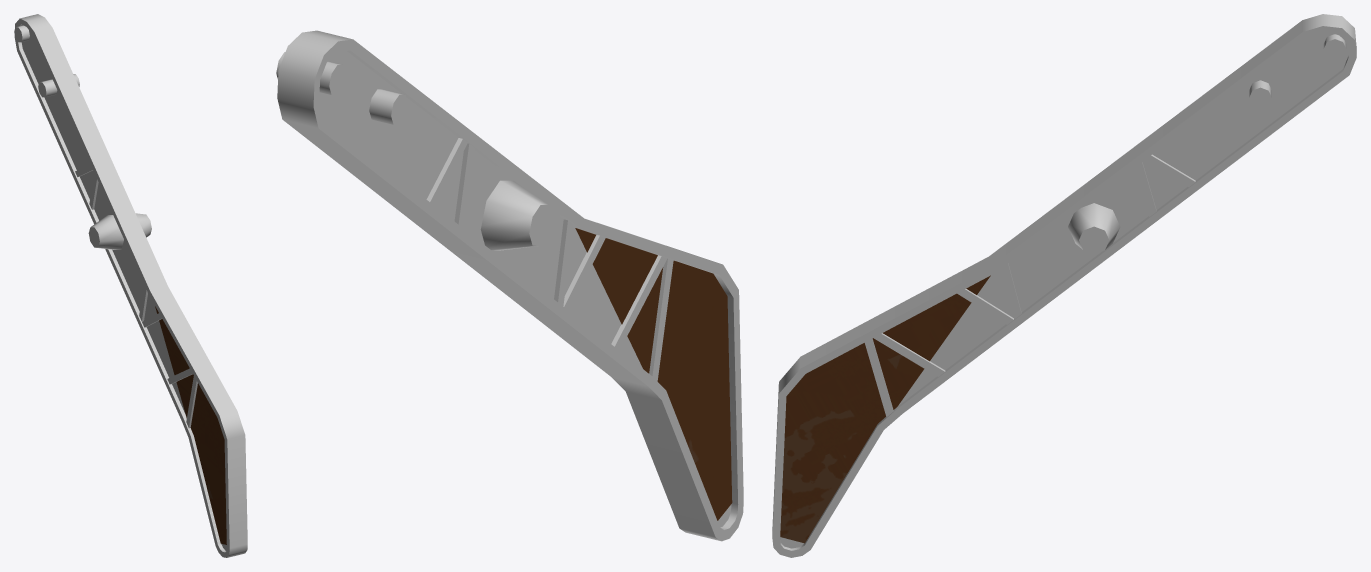
Rendered from Claw_crane_knee_2_001.fbx.
The picture shows the model from 3 angles, left to right: view 1: azimuth 30°, elevation 25°; view 2: azimuth 150°, elevation 25°; view 3: azimuth 270°, elevation 25°; orthographic projection. The views are drawn at different scales.
Parts seen in each view (by area): view 1: Claw_crane_knee_2_001; view 2: Claw_crane_knee_2_001; view 3: Claw_crane_knee_2_001.
Part boxes in pixels (bbox=[...]): Claw_crane_knee_2_001: bbox=[14, 14, 247, 557]; Claw_crane_knee_2_001: bbox=[276, 30, 743, 541]; Claw_crane_knee_2_001: bbox=[772, 14, 1356, 557].
Size of the model in its own units: 104 by 747 by 751.
